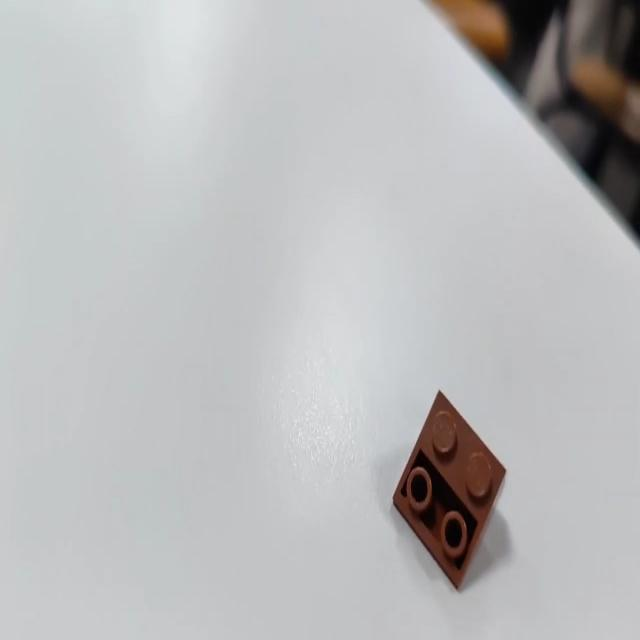X2x2x1: (392, 388, 506, 590)
